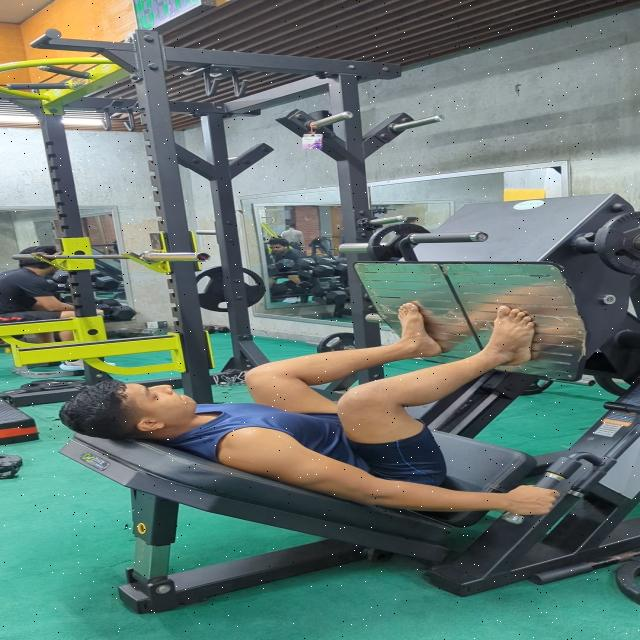Normal_LegPress: (45, 292, 592, 520)
